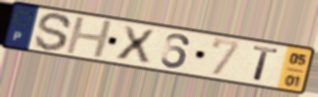6: (159, 33, 191, 70)
7: (209, 36, 244, 79)
H: (63, 16, 116, 60)
S: (33, 11, 75, 53)
T: (252, 44, 281, 84)
X: (114, 24, 157, 65)
